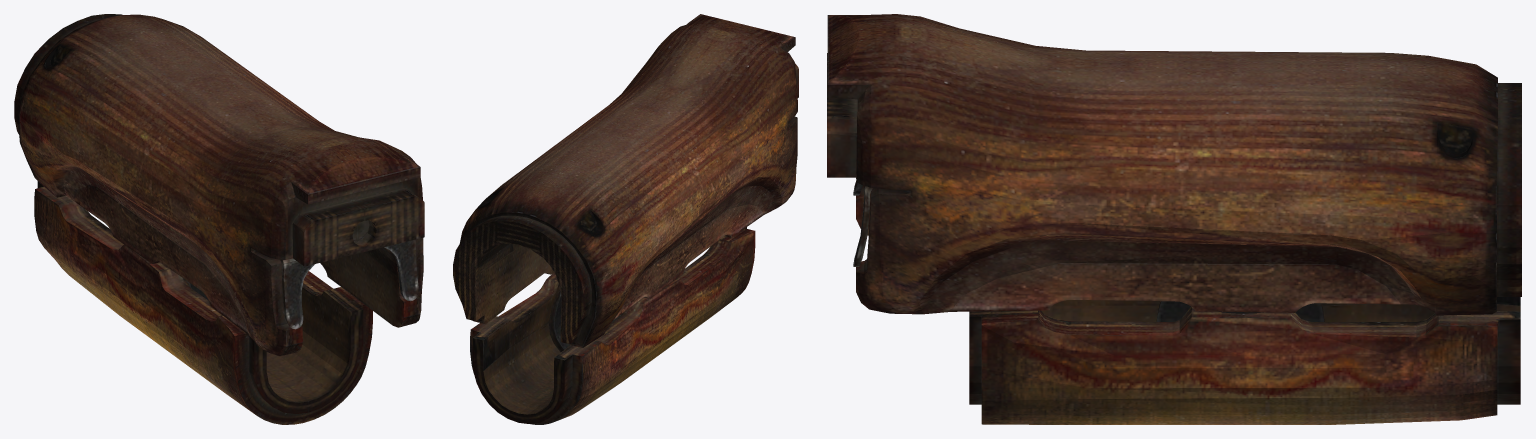
3 renders of one model, left to right at view 1: azimuth 30°, elevation 25°; view 2: azimuth 150°, elevation 25°; view 3: azimuth 270°, elevation 25°, orthographic. The views are drawn at different scales.
Parts seen in each view (by area): view 1: TW_57dc32dc245977596d4ef3d3_PZ_Import; view 2: TW_57dc32dc245977596d4ef3d3_PZ_Import; view 3: TW_57dc32dc245977596d4ef3d3_PZ_Import.
Boxes of the visible parts, x1,y1,x2,y2 form: TW_57dc32dc245977596d4ef3d3_PZ_Import: (14, 14, 424, 424); TW_57dc32dc245977596d4ef3d3_PZ_Import: (453, 14, 798, 424); TW_57dc32dc245977596d4ef3d3_PZ_Import: (827, 14, 1521, 424).
Bounding box in the file's own units: 0.0281 × 0.0722 × 0.0439.
1 material, 1 textured.
